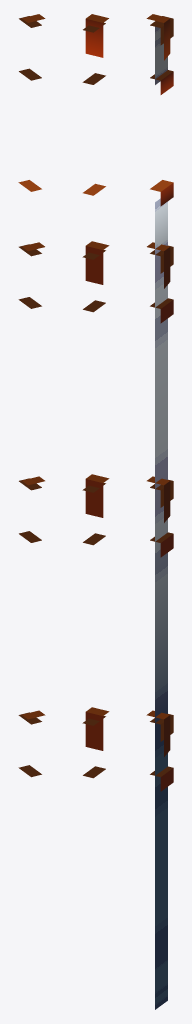
3 renders of one model, left to right at view 1: azimuth 30°, elevation 25°; view 2: azimuth 150°, elevation 25°; view 3: azimuth 330°, elevation 25°, orthographic.
Bounding box in the file's own units: 0.7891 × 42.25 × 1.
2 materials, 2 textured.
